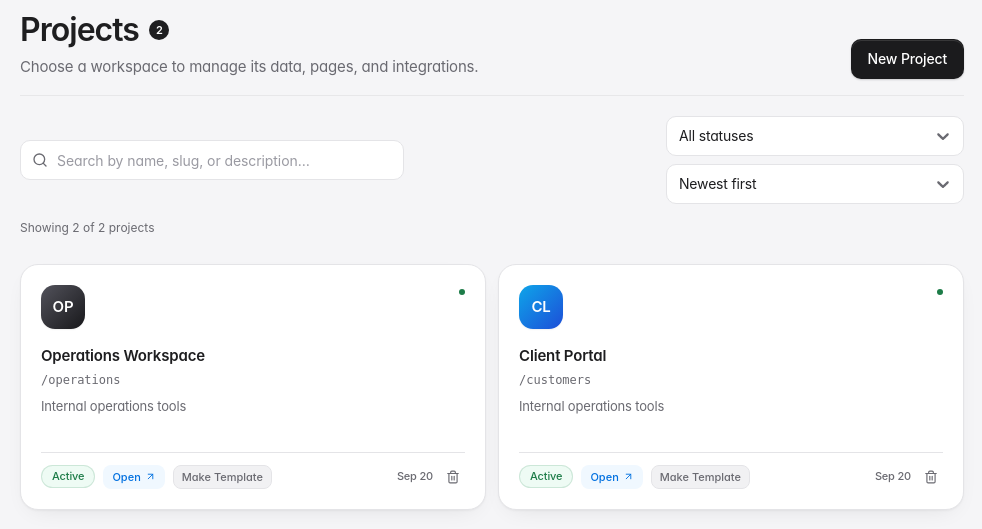
Test: ProjectsPage › searches names and slugs and can clear an empty result
The width and height of the screenshot is (982, 529).
Type "customers" into the search field named "Search projects" at (212, 160), box [20, 140, 404, 180]
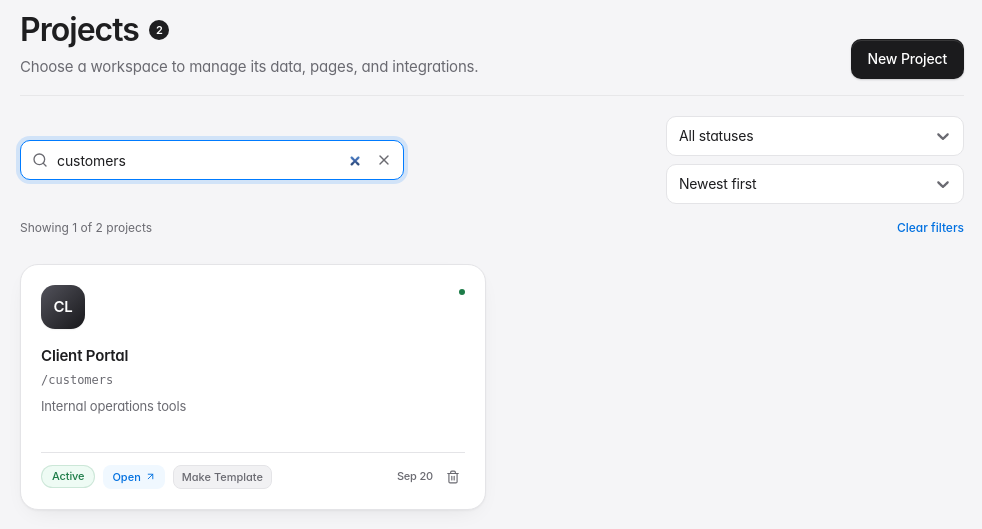
Expected: the button named "Switch to Client" is shown, [21, 265, 485, 509]
Replace the text in the search field named "Search projects" with "missing" at (212, 160), box [20, 140, 404, 180]
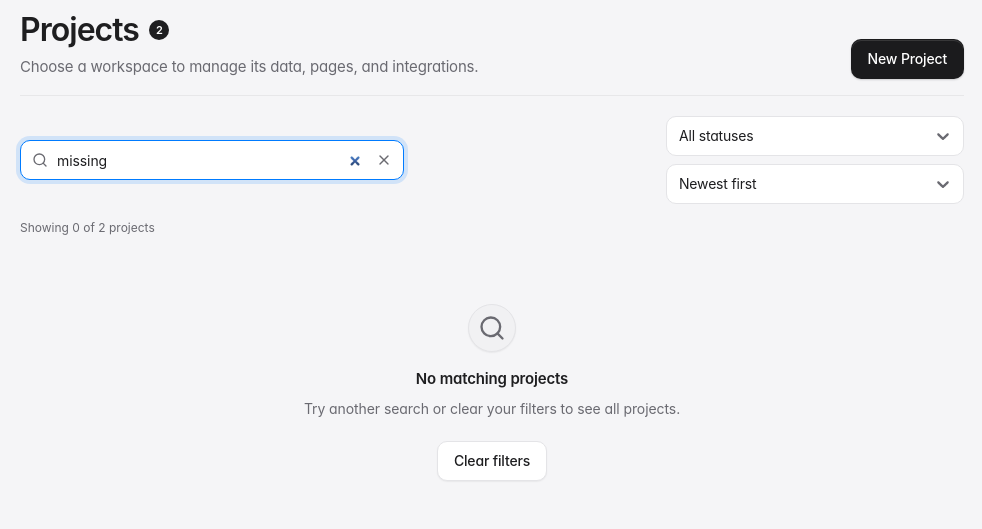
Now the message "No matching projects" is shown, box [304, 304, 680, 481]
Click the button "Clear filters" at (492, 461), box [437, 441, 547, 481]
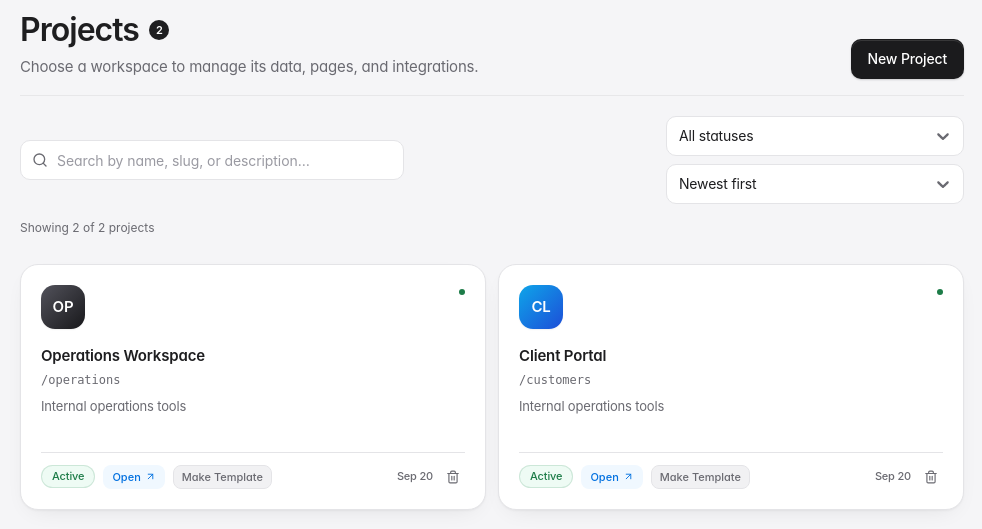
Now the button named "Switch to Operations" is shown, box [21, 265, 485, 509]
